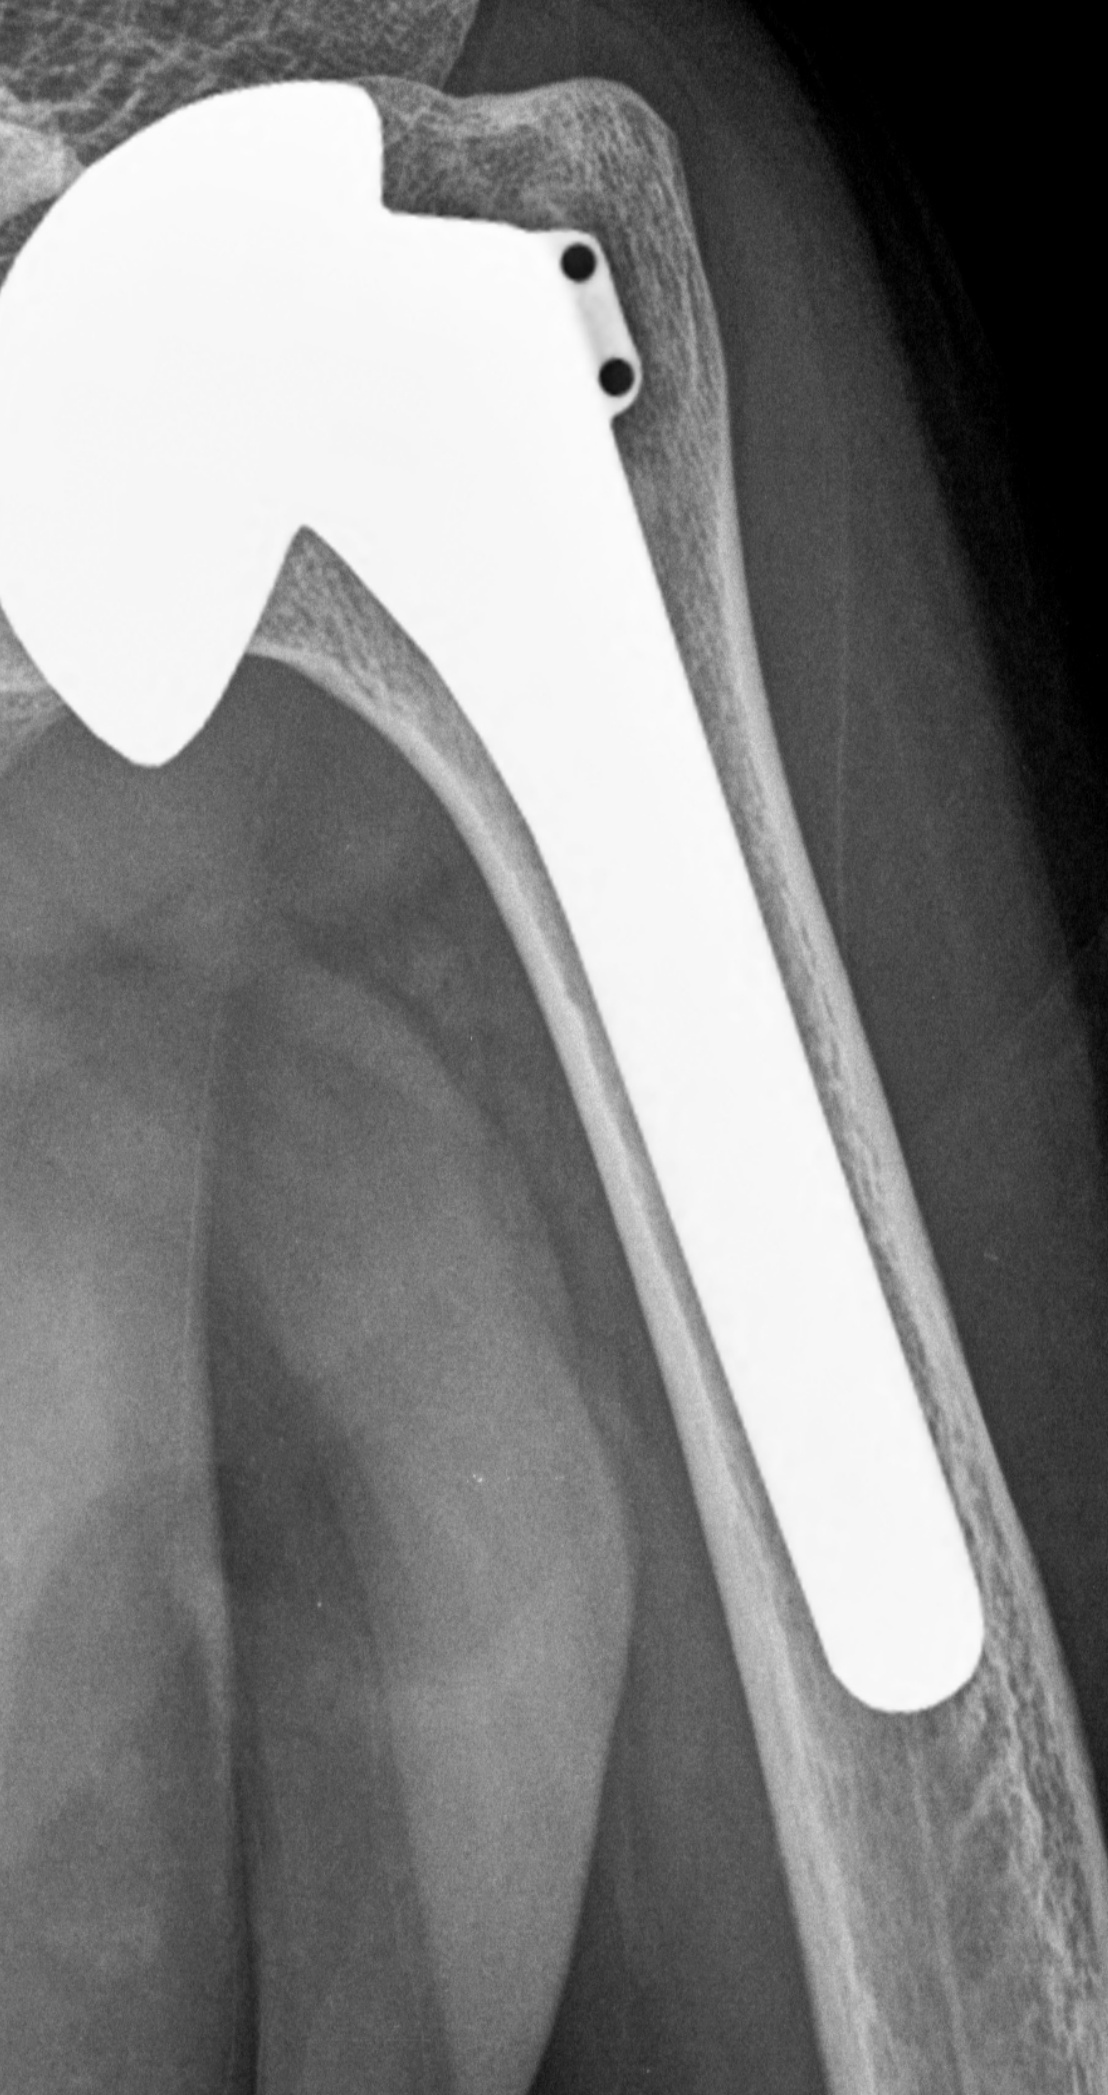Shoulder - AequalisPressfit - Tornier: (1, 73, 645, 793)
